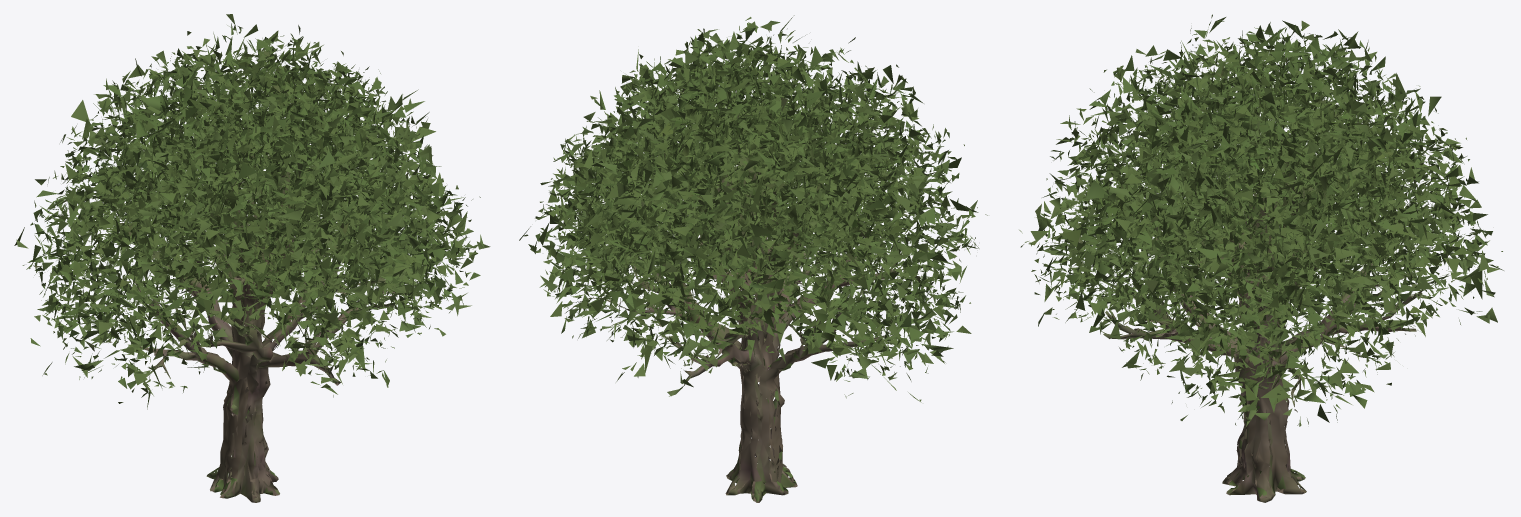
File: broadleaf-tree.glb
3 renders of one model, left to right at view 1: azimuth 30°, elevation 25°; view 2: azimuth 150°, elevation 25°; view 3: azimuth 270°, elevation 25°, orthographic. The views are drawn at different scales.
Visible parts, largest first — view 1: Mesh_0; view 2: Mesh_0; view 3: Mesh_0.
Boxes of the visible parts, x1=… form: Mesh_0: x1=14, y1=14, x2=490, y2=502; Mesh_0: x1=519, y1=15, x2=987, y2=502; Mesh_0: x1=1019, y1=14, x2=1503, y2=502.
Bounding box in the file's own units: 4.66 × 4.99 × 4.77.
Materials: 1 (1 with a texture image).
